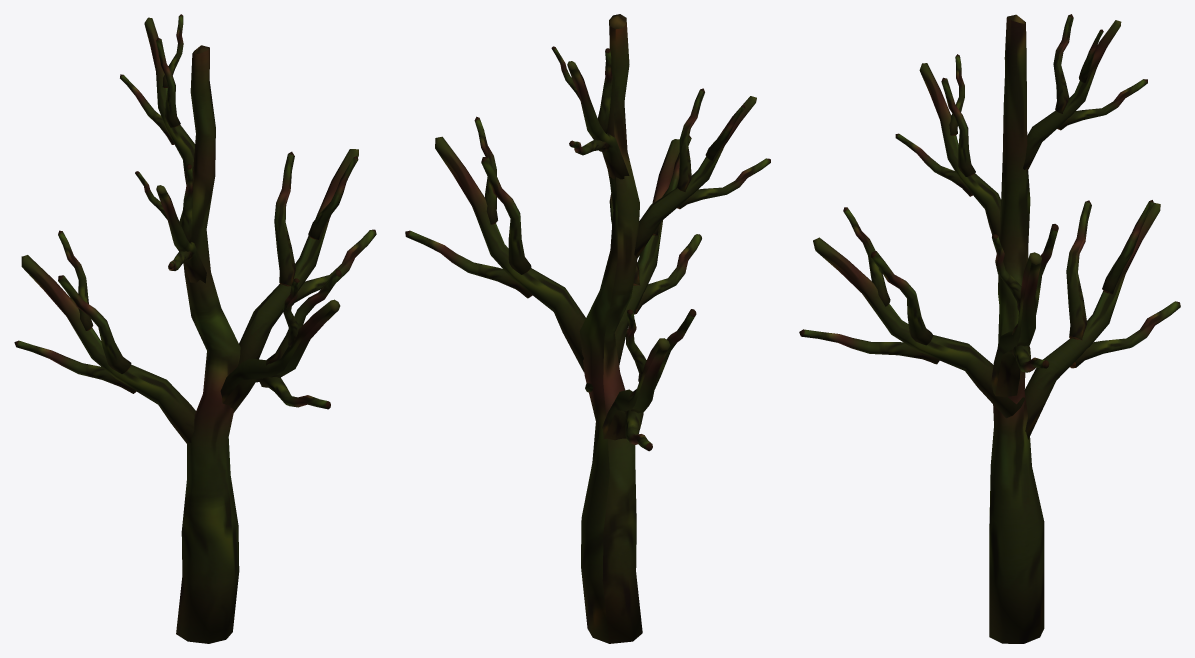
Rendered from Dead toxic plants_1.fbx.
The picture shows the model from 3 angles, left to right: view 1: azimuth 30°, elevation 25°; view 2: azimuth 150°, elevation 25°; view 3: azimuth 270°, elevation 25°; orthographic projection. The views are drawn at different scales.
Visible parts, largest first — view 1: RetopoFlow; view 2: RetopoFlow; view 3: RetopoFlow.
Part boxes in pixels (<box>): RetopoFlow: <box>14,14,376,643</box>; RetopoFlow: <box>405,14,770,643</box>; RetopoFlow: <box>799,14,1180,643</box>.
Size of the model in its own units: 1387 by 2571 by 1443.
1 material, 1 textured.
